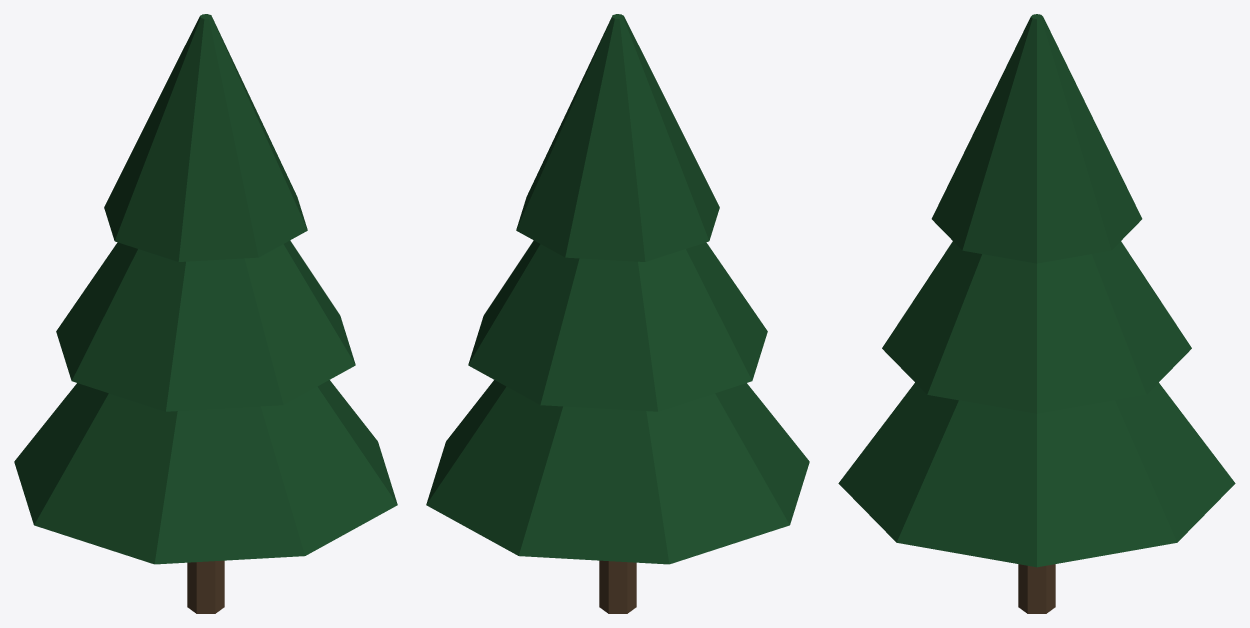
File: pine.glb
3 views of the same model, side by side, from view 1: azimuth 30°, elevation 25°; view 2: azimuth 150°, elevation 25°; view 3: azimuth 270°, elevation 25° (orthographic).
Parts seen in each view (by area): view 1: pine; view 2: pine; view 3: pine.
Boxes of the visible parts, bbox=[...] form: pine: bbox=[14, 14, 397, 613]; pine: bbox=[426, 14, 809, 613]; pine: bbox=[838, 14, 1235, 613].
Size of the model in its own units: 6.4 by 10.5 by 6.4.
